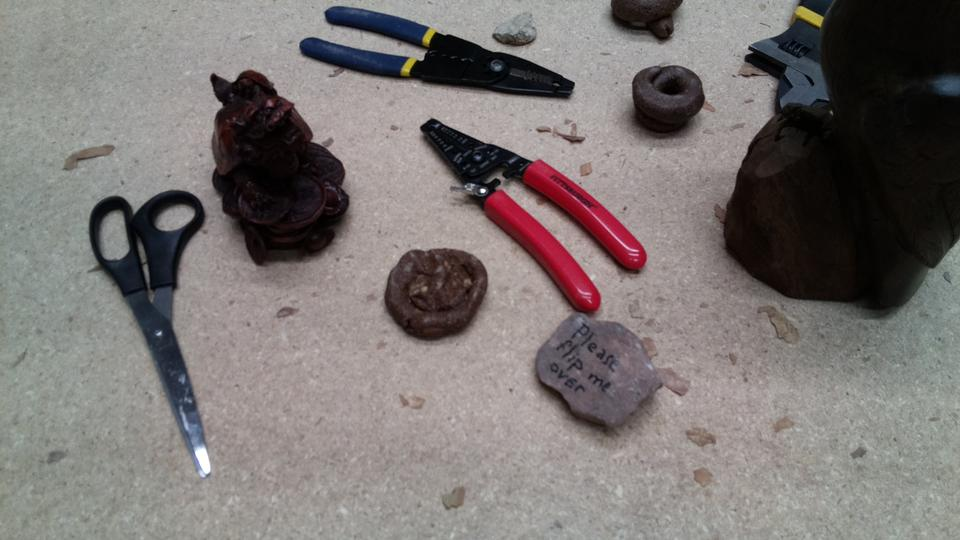poop: (381, 244, 491, 345), (630, 63, 707, 139), (605, 1, 685, 45)
